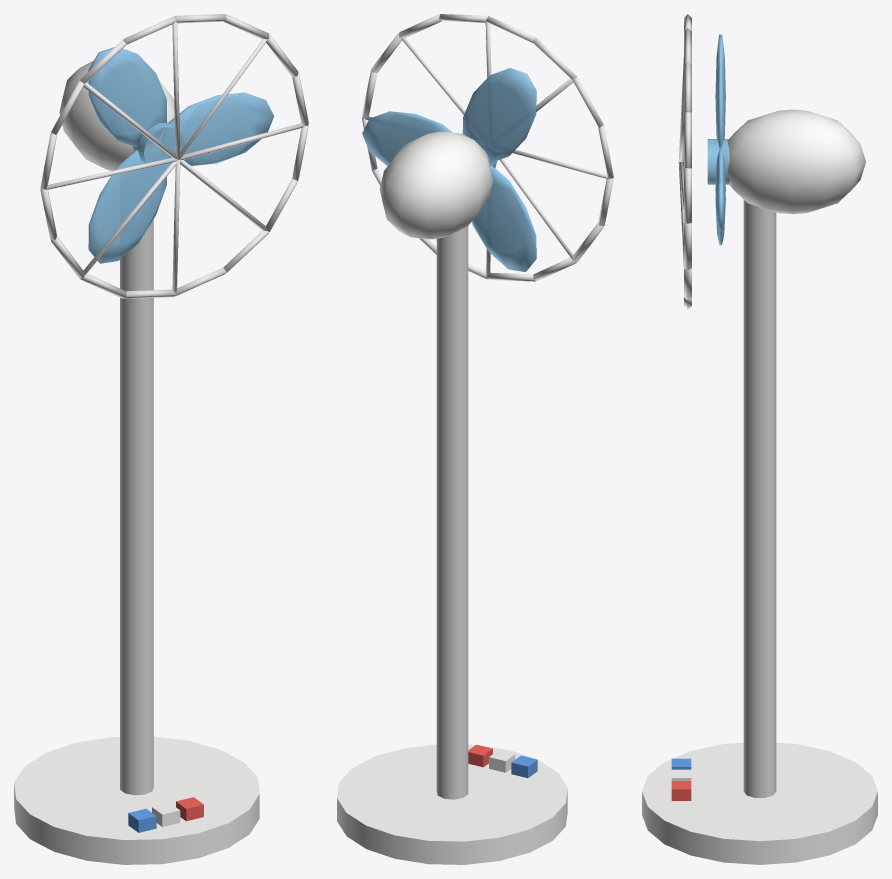
Rendered from SM_StandingFan.fbx.
3 views of the same model, side by side, from view 1: azimuth 30°, elevation 25°; view 2: azimuth 150°, elevation 25°; view 3: azimuth 270°, elevation 25° (orthographic). The views are drawn at different scales.
Parts seen in each view (by area): view 1: Fan_Body, Fan_Blades; view 2: Fan_Body, Fan_Blades; view 3: Fan_Body, Fan_Blades.
Boxes of the visible parts, <box> form: Fan_Body: <box>14,14,308,864</box>; Fan_Blades: <box>88,47,274,263</box>; Fan_Body: <box>337,14,613,864</box>; Fan_Blades: <box>362,68,536,271</box>; Fan_Body: <box>642,14,877,864</box>; Fan_Blades: <box>707,34,729,245</box>.
Size of the model in its own units: 0.4518 by 1.33 by 0.36.
